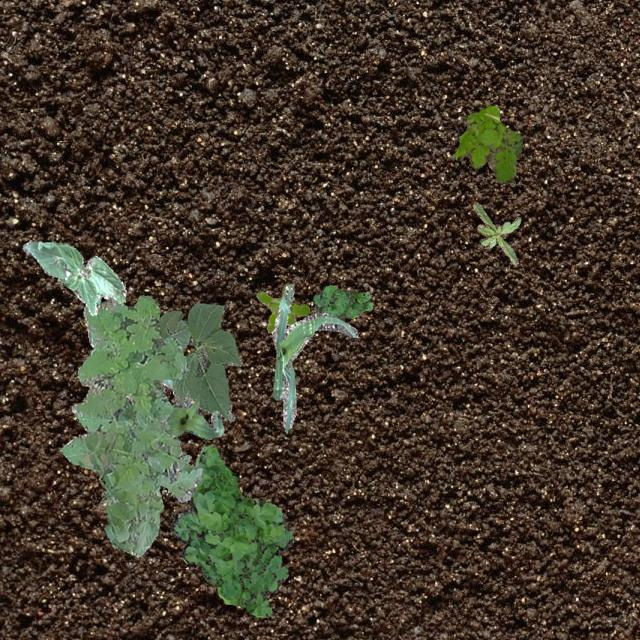crop: (272, 283, 356, 432), (86, 294, 190, 404), (157, 302, 240, 421), (21, 240, 126, 314), (166, 396, 223, 438)
weed: (58, 294, 202, 556), (170, 444, 292, 616), (454, 104, 520, 182), (472, 202, 520, 264), (256, 284, 308, 330), (312, 284, 372, 318)
